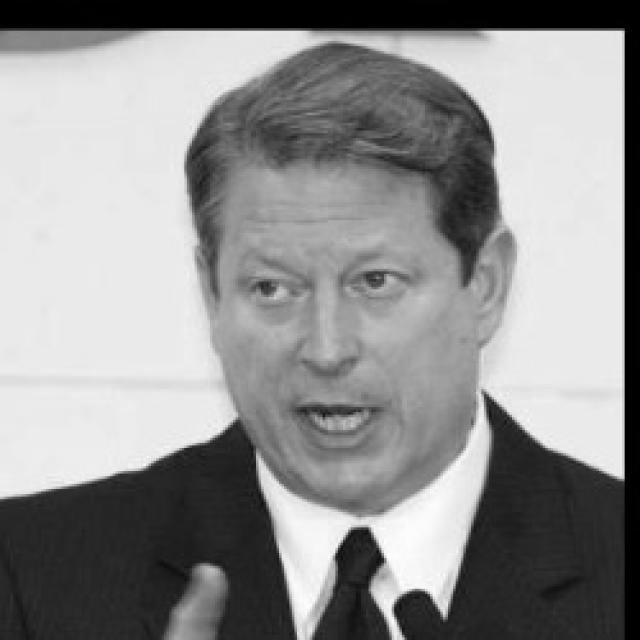real: (210, 136, 476, 508), (238, 255, 423, 318)
